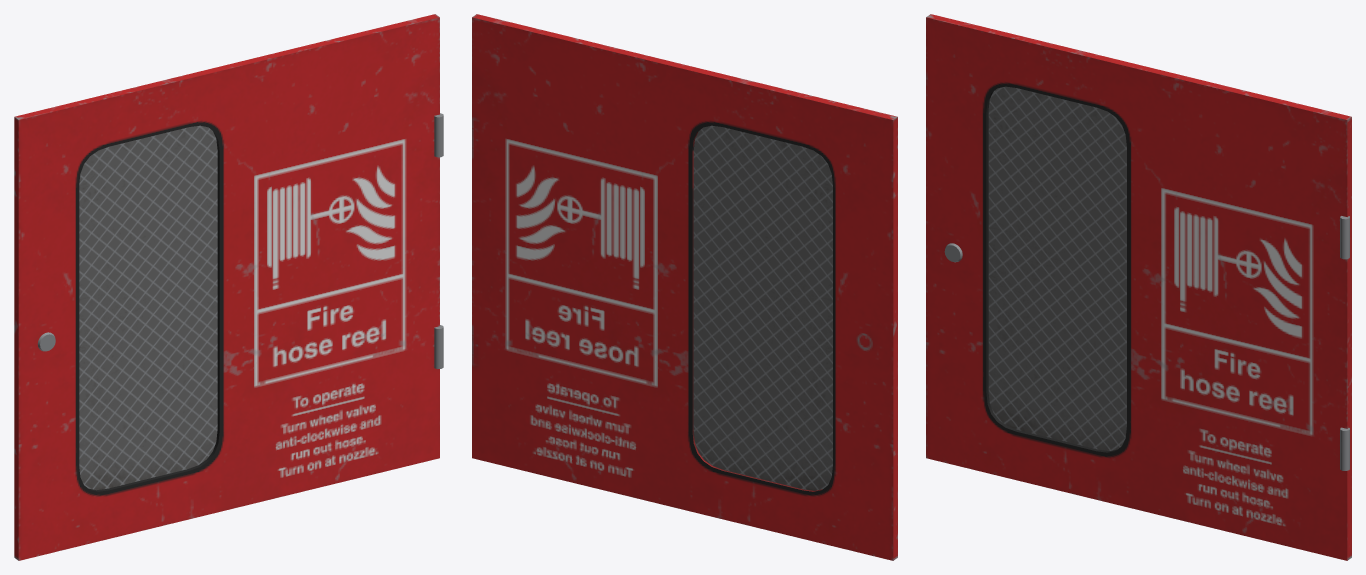
File: SM_FireHoseReel_FireHoseReel_Door.fbx
3 renders of one model, left to right at view 1: azimuth 30°, elevation 25°; view 2: azimuth 150°, elevation 25°; view 3: azimuth 330°, elevation 25°, orthographic.
Parts seen in each view (by area): view 1: SM_FireHoseReel_FireHoseReel_Door; view 2: SM_FireHoseReel_FireHoseReel_Door; view 3: SM_FireHoseReel_FireHoseReel_Door.
Boxes of the visible parts, <box> form: SM_FireHoseReel_FireHoseReel_Door: <box>14,14,443,560</box>; SM_FireHoseReel_FireHoseReel_Door: <box>472,14,897,560</box>; SM_FireHoseReel_FireHoseReel_Door: <box>926,14,1351,560</box>.
Size of the model in its own units: 66.4 by 2.08 by 65.97.
Materials: 2 (2 with a texture image).
